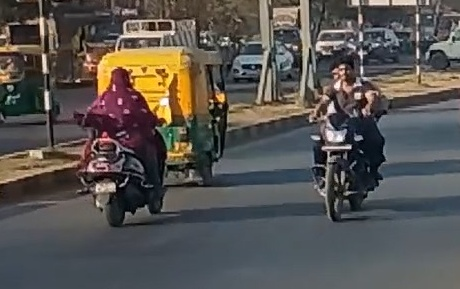BikeWithRider: (68, 65, 178, 230), (300, 53, 397, 225)
NoHelmet: (329, 55, 364, 87), (102, 65, 137, 96)
